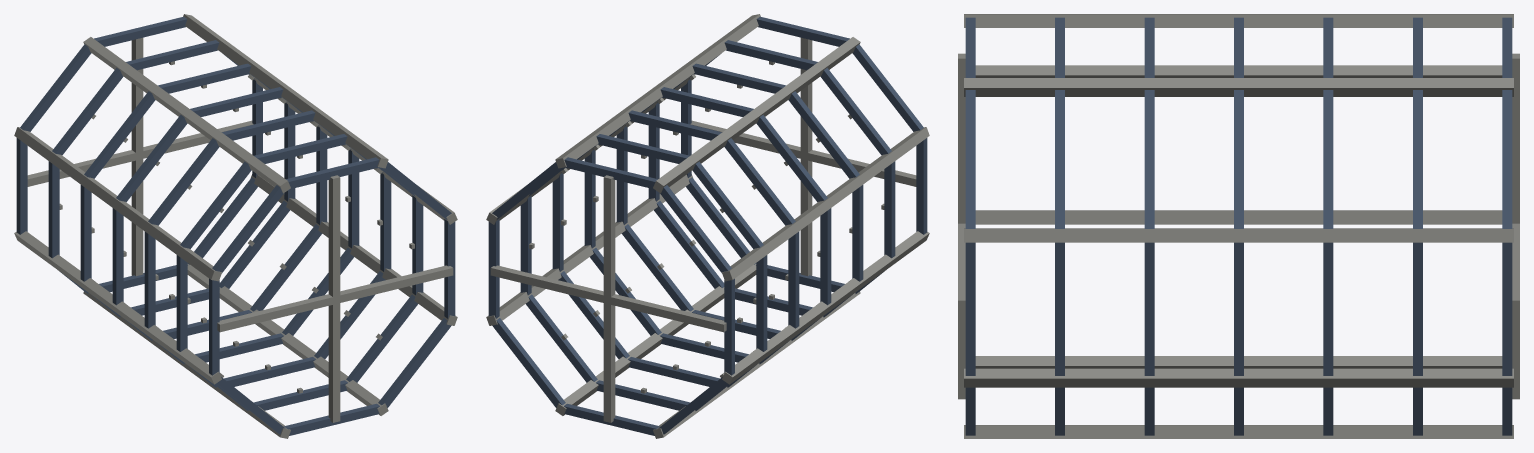
File: kc1000_frame.obj
3 renders of one model, left to right at view 1: azimuth 30°, elevation 25°; view 2: azimuth 150°, elevation 25°; view 3: azimuth 270°, elevation 25°, orthographic. The views are drawn at different scales.
Parts seen in each view (by area): view 1: kc1000_frame; view 2: kc1000_frame; view 3: kc1000_frame.
Boxes of the visible parts, x1,y1,x2,y2 form: kc1000_frame: (14, 14, 457, 438); kc1000_frame: (486, 14, 929, 438); kc1000_frame: (958, 14, 1519, 438).
Size of the model in its own units: 8.82 by 8.82 by 12.46.
